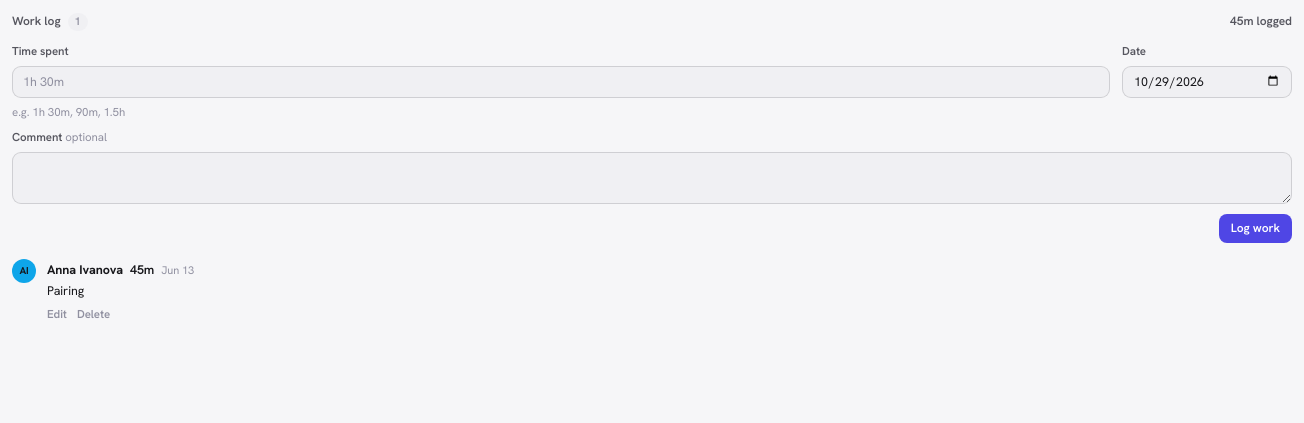
Test case: the work log section › takes a refused add back off the list and puts the entry back in the boxes
expect the text "Pairing" is shown: met, box x1=47 y1=282 x2=84 y2=299
Type "2h" into the field labelled "Time spent" at coordinates (561, 82), box x1=12 y1=66 x2=1110 y2=98
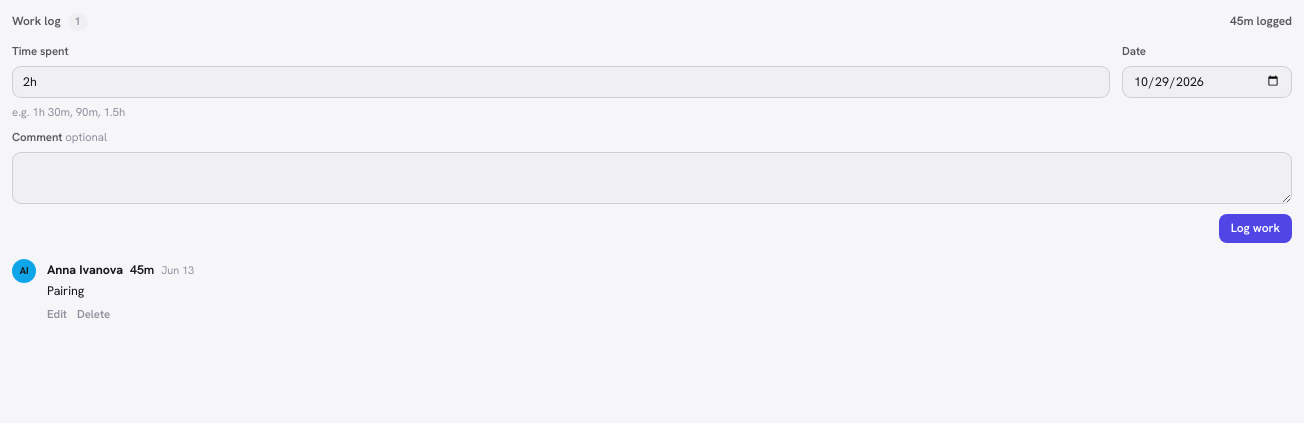
Click the button "Log work" at coordinates (1255, 228), box x1=1219 y1=214 x2=1292 y2=243
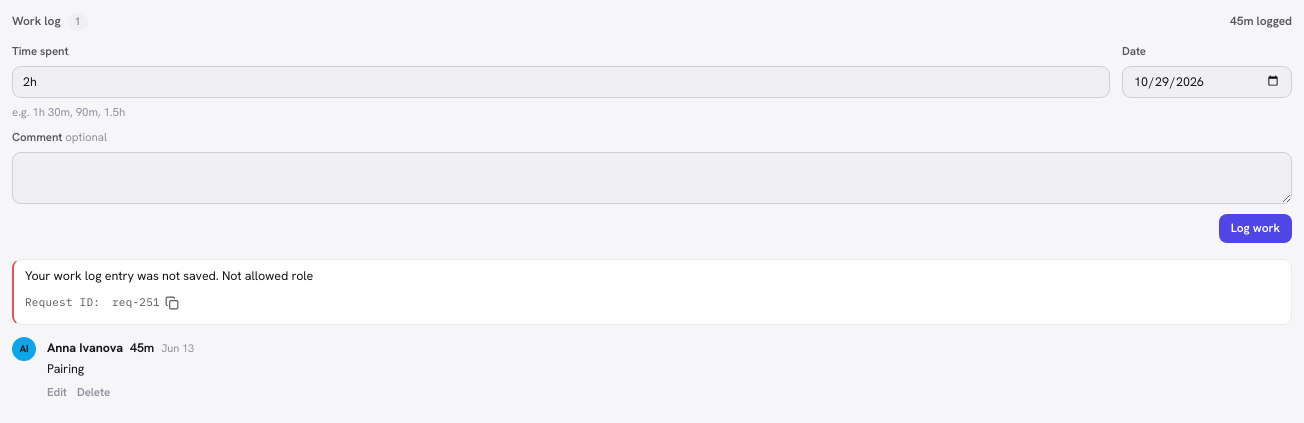
expect the number of list items with class "worklog-row" is 1: met, box x1=12 y1=337 x2=194 y2=406
expect the text "Your work log entry was not saved. Not allowed role" is shown: met, box x1=25 y1=267 x2=313 y2=284
expect the button "req-251" is shown: met, box x1=106 y1=289 x2=185 y2=317
